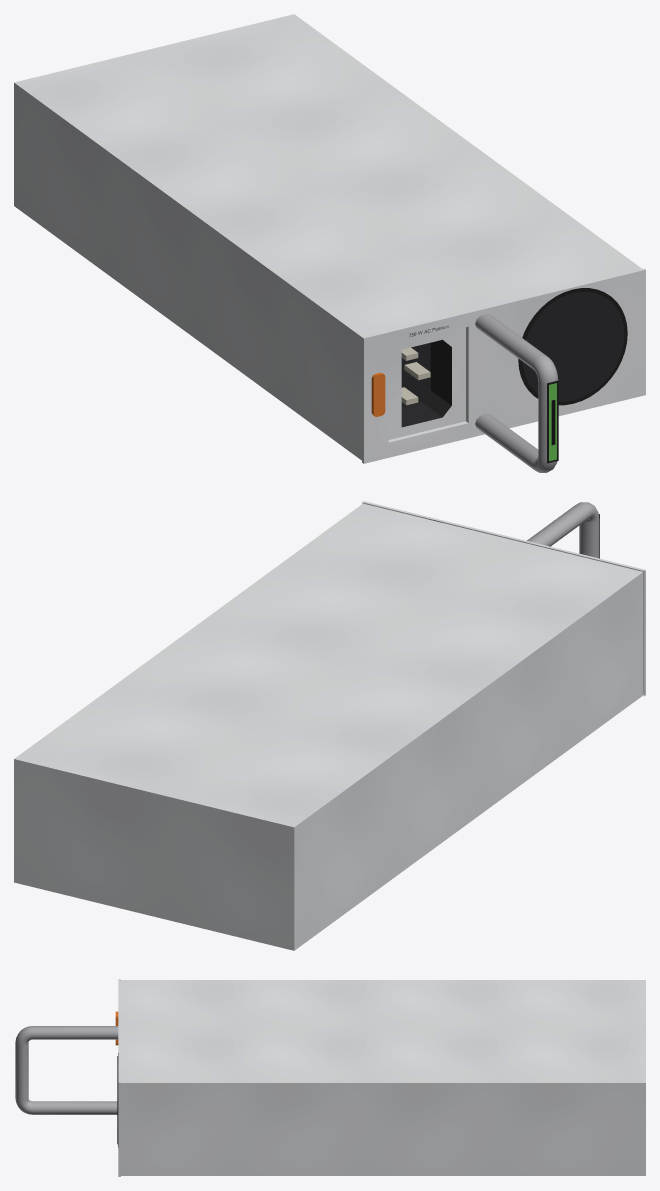
Rendered from DELL-PSU-13G-750W.glb.
3 views of the same model, one above another, from view 1: azimuth 30°, elevation 25°; view 2: azimuth 150°, elevation 25°; view 3: azimuth 270°, elevation 25° (orthographic). The views are drawn at different scales.
Parts seen in each view (by area): view 1: PSU, PSU_Handle; view 2: PSU, PSU_Handle; view 3: PSU, PSU_Handle.
Part boxes in pixels (x1,y1,x2,y2): PSU: (14,14,645,463); PSU_Handle: (475,314,558,472); PSU: (14,501,645,950); PSU_Handle: (527,502,599,558); PSU: (115,979,645,1176); PSU_Handle: (15,1026,118,1114).
Size of the model in its own units: 0.093 by 0.0395 by 0.2399.
9 materials, 1 textured.
